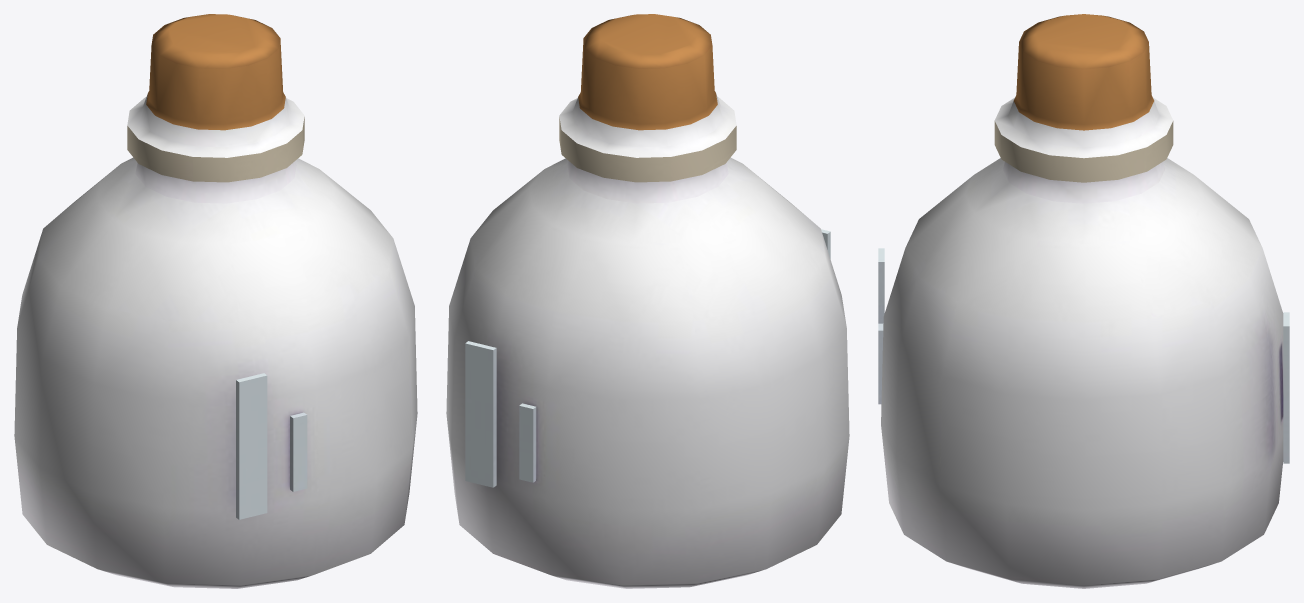
Rendered from sise.glb.
3 renders of one model, left to right at view 1: azimuth 30°, elevation 25°; view 2: azimuth 150°, elevation 25°; view 3: azimuth 270°, elevation 25°, orthographic.
Visible parts, largest first — view 1: sise; view 2: sise; view 3: sise.
Part boxes in pixels (left/top/right/bottom): sise: left=14, top=14, right=417, bottom=588; sise: left=446, top=14, right=849, bottom=588; sise: left=878, top=14, right=1289, bottom=588.
Size of the model in its own units: 1.16 by 1.53 by 1.18.
1 material, 1 textured.
